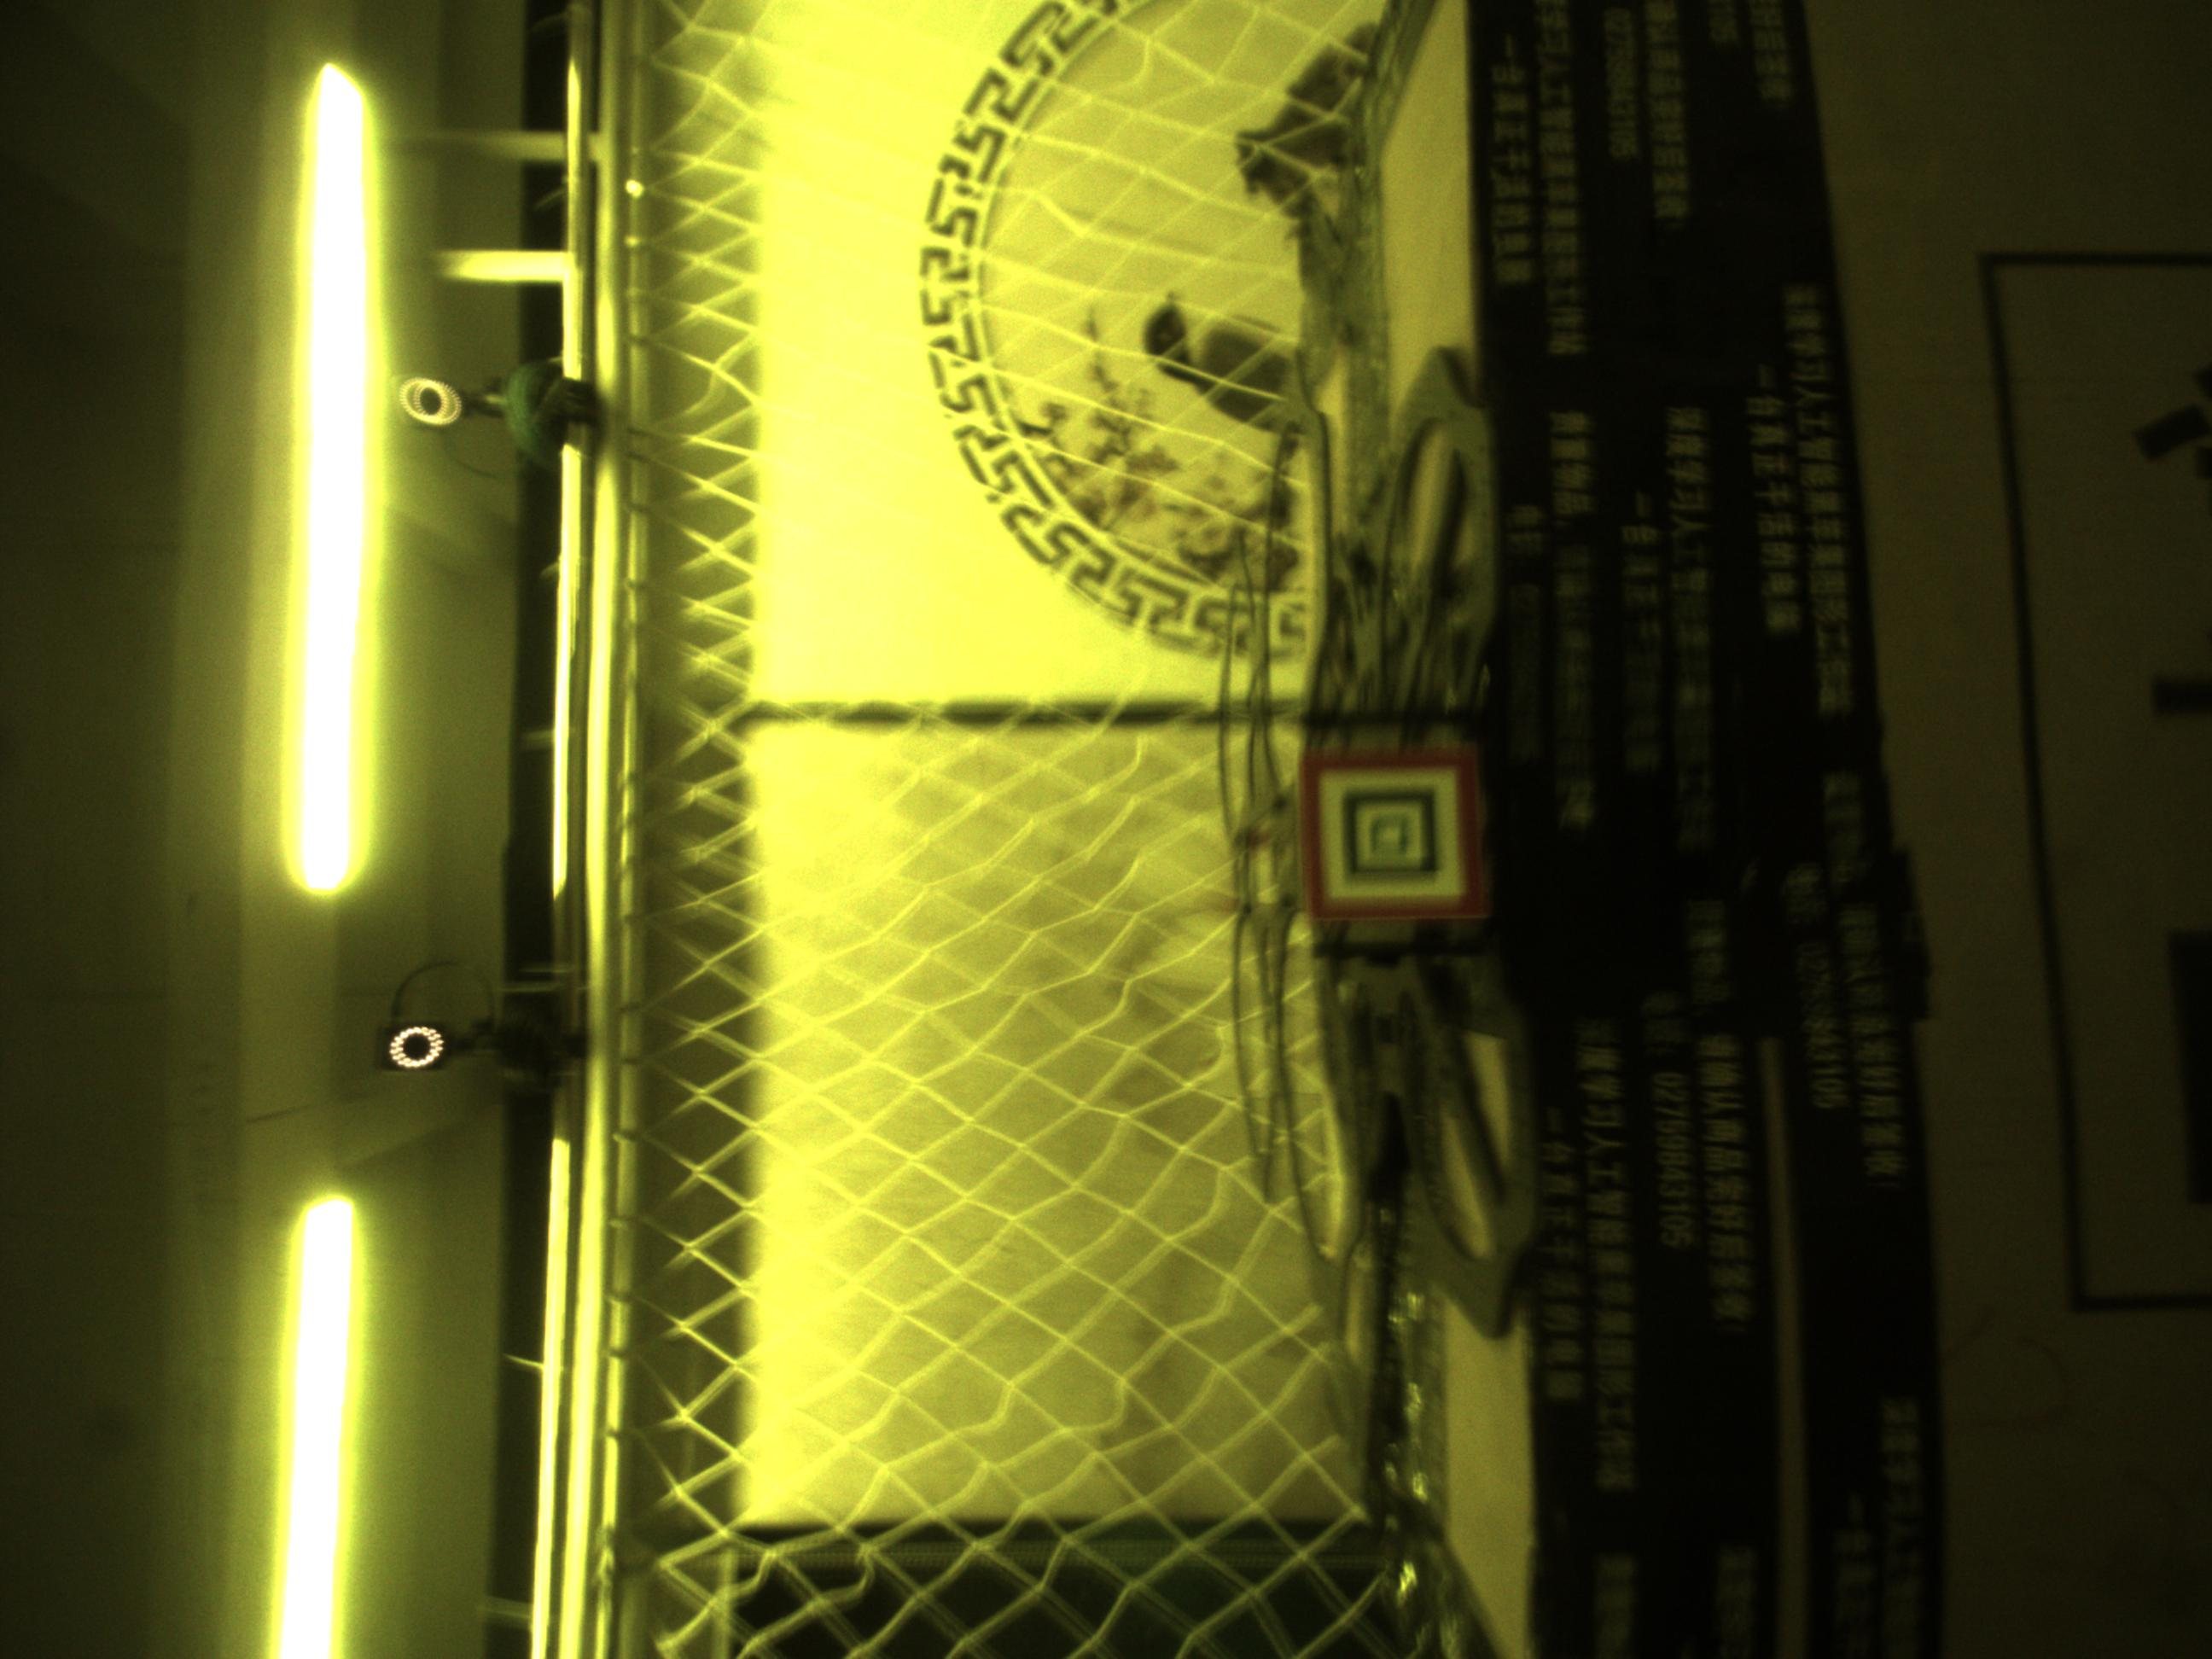outline: (1296, 749, 1486, 920)
